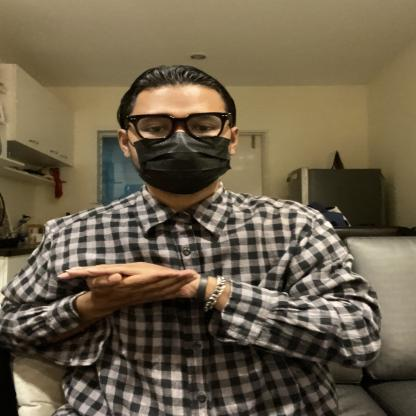Love: (38, 243, 248, 332)
